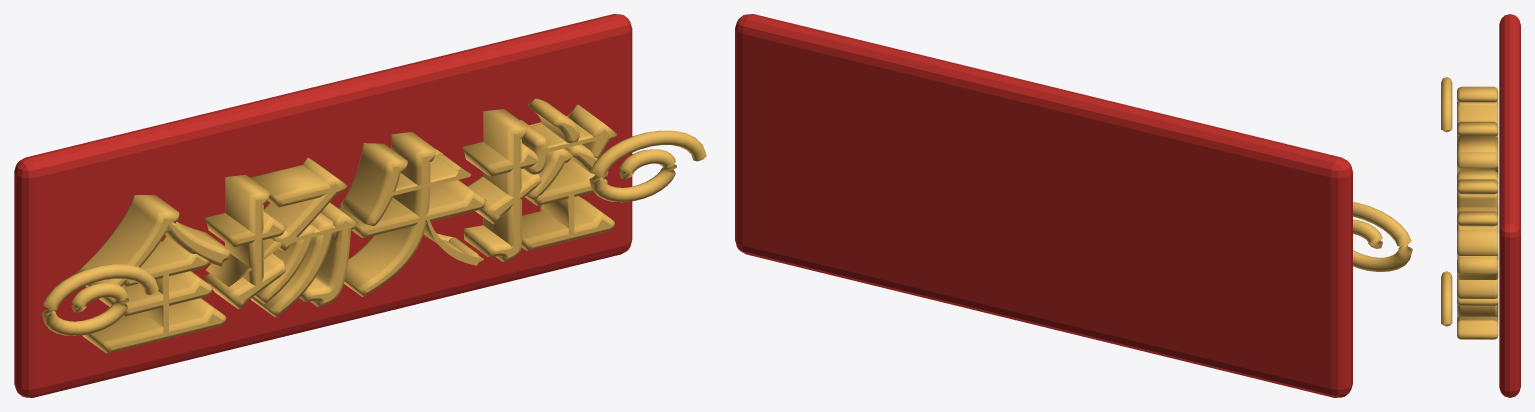
The model's file is word-out-of-control.glb.
The picture shows the model from 3 angles, left to right: view 1: azimuth 30°, elevation 25°; view 2: azimuth 150°, elevation 25°; view 3: azimuth 270°, elevation 25°; orthographic projection. The views are drawn at different scales.
Visible parts, largest first — view 1: word-out-of-control; view 2: word-out-of-control; view 3: word-out-of-control.
Boxes of the visible parts, x1,y1,x2,y2 form: word-out-of-control: [14, 14, 706, 397]; word-out-of-control: [735, 14, 1412, 397]; word-out-of-control: [1441, 14, 1520, 397].
Bounding box in the file's own units: 1.8 × 0.619 × 0.258.
